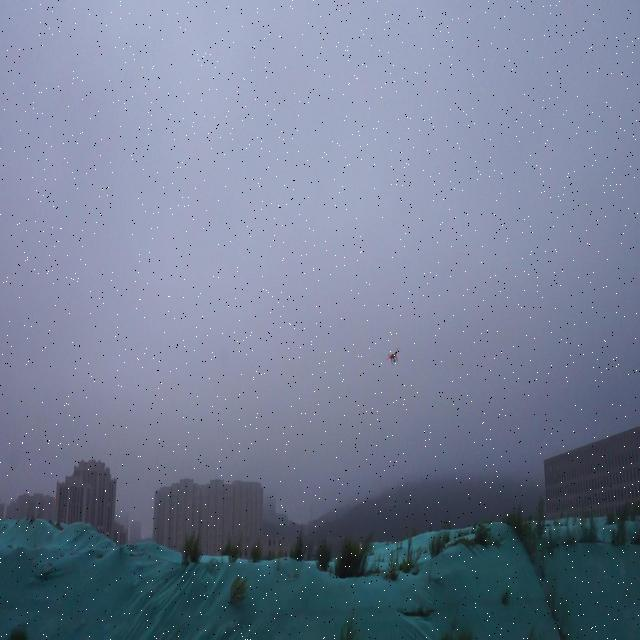UAV: (386, 348, 399, 365)
